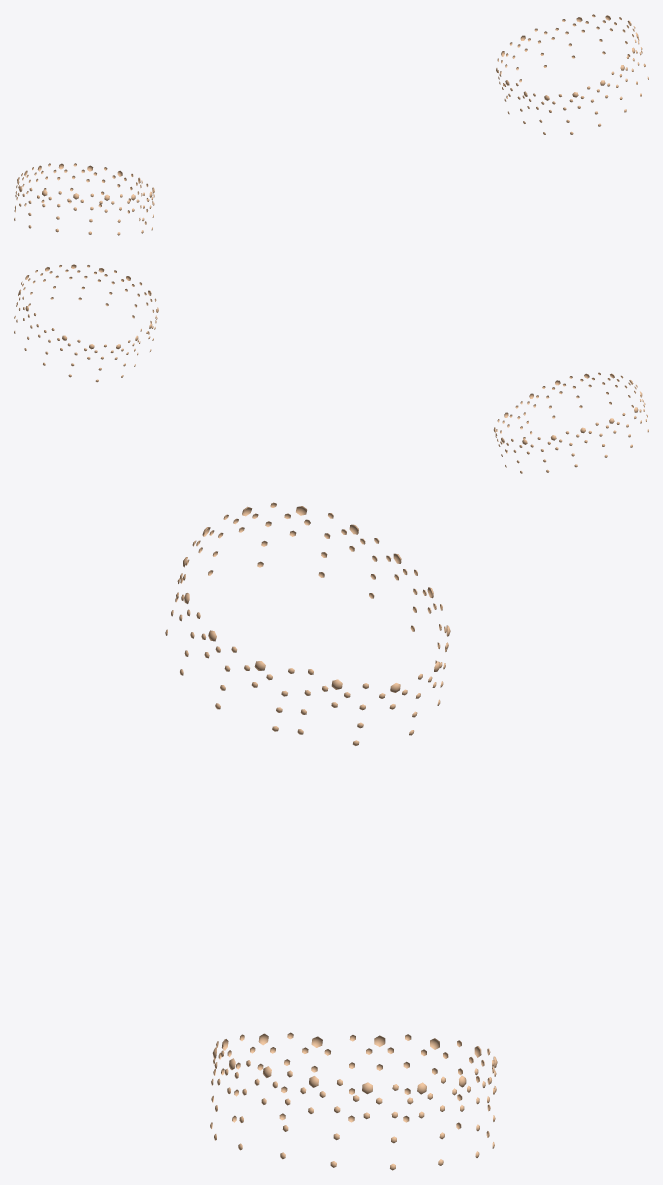
The model's file is cuffs-crystal.glb.
The picture shows the model from 3 angles, top to bottom: view 1: azimuth 30°, elevation 25°; view 2: azimuth 150°, elevation 25°; view 3: azimuth 270°, elevation 25°; orthographic projection. The views are drawn at different scales.
Visible parts, largest first — view 1: crystals_cuff; view 2: crystals_cuff; view 3: crystals_cuff.
Boxes of the visible parts, box(x1,y1,x2,y2) form: crystals_cuff: box(14, 14, 648, 235); crystals_cuff: box(14, 264, 648, 473); crystals_cuff: box(165, 502, 497, 1170).
Bounding box in the file's own units: 1.89 × 0.225 × 0.4521.
